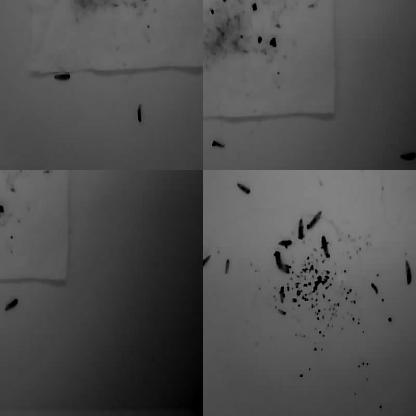PtecticusTenebrifer: (273, 249, 289, 275), (306, 210, 322, 230), (404, 258, 414, 286), (236, 182, 250, 196), (322, 236, 330, 260), (136, 102, 144, 124), (399, 151, 416, 161), (6, 299, 18, 312), (213, 140, 227, 151), (53, 74, 71, 82), (298, 218, 304, 240), (190, 402, 203, 412), (203, 255, 212, 269), (0, 250, 5, 275), (203, 237, 210, 254), (315, 170, 328, 178), (225, 259, 231, 276), (203, 284, 208, 304), (278, 240, 292, 247), (123, 0, 139, 6), (203, 137, 207, 160), (267, 0, 280, 7), (0, 200, 7, 213), (203, 264, 209, 279), (213, 0, 230, 5), (0, 401, 8, 411), (118, 0, 133, 5), (0, 170, 8, 177), (354, 170, 367, 174), (203, 170, 208, 180), (271, 0, 279, 6), (0, 170, 8, 176), (0, 170, 6, 177), (203, 170, 212, 174)
